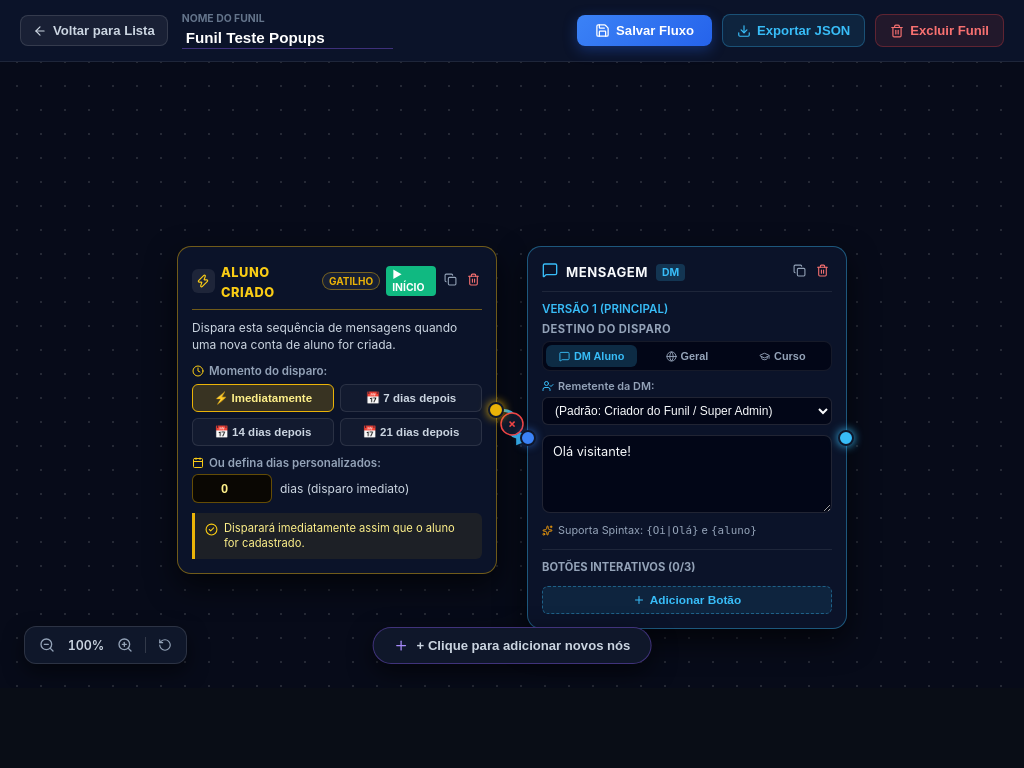
FunnelCanvasPage Component - Confirmação de Ações em Nós › exclui o nó ao confirmar no popup de exclusão
This screenshot has width=1024, height=768.
Expected: the field showing "Funil Teste Popups" is shown, [182, 27, 393, 49]
Expected: the text box showing "Olá visitante!" is shown, [542, 435, 832, 513]
What coordinates should you click on to do the following:
click the button titled "Excluir Nó"
I would click on:
 (822, 272)
Its box is [813, 261, 832, 283].
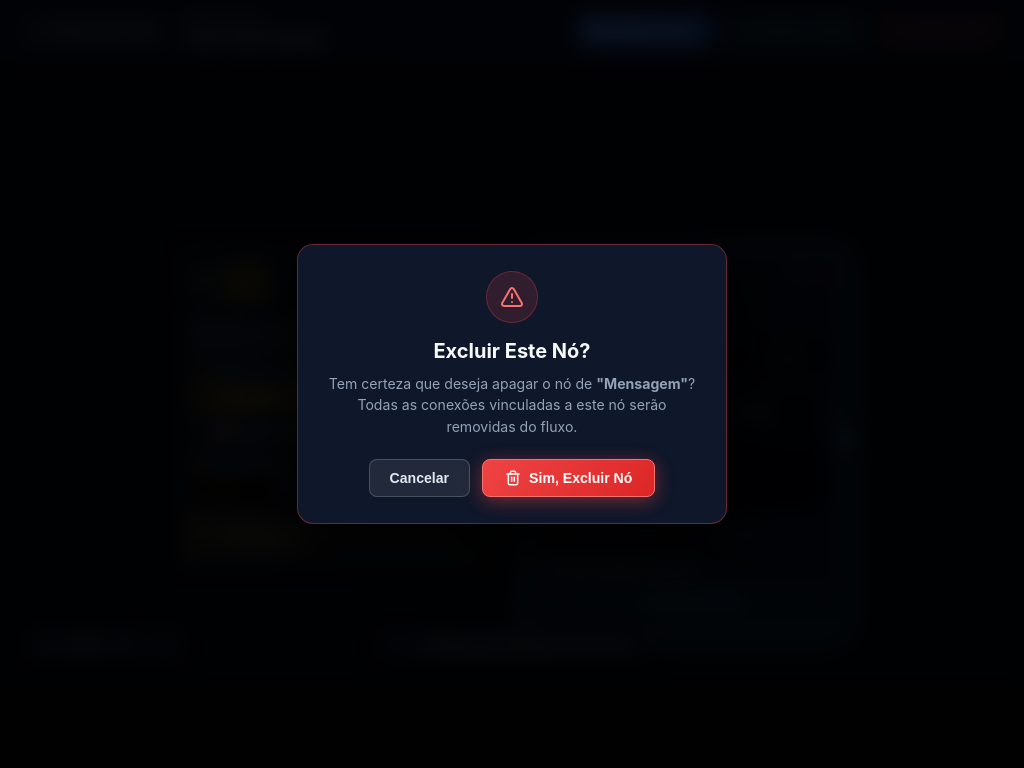
Now the element with test id "funnel-node-delete-modal" is shown, box [297, 244, 727, 524]
What coordinates should you click on to do the following:
click the button with test id "confirm-node-action-btn"
I would click on:
 (569, 478)
Its box is [482, 459, 655, 497].
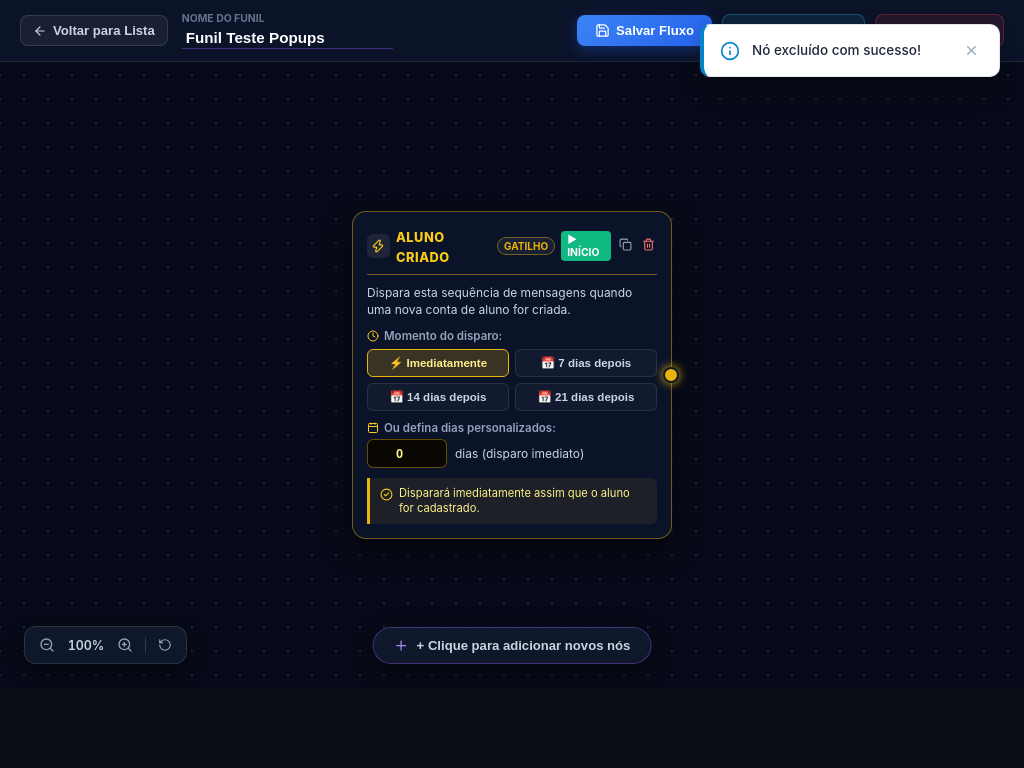
Expected: the field showing "Olá visitante!" is not shown
Now the element with test id "funnel-node-delete-modal" is gone
